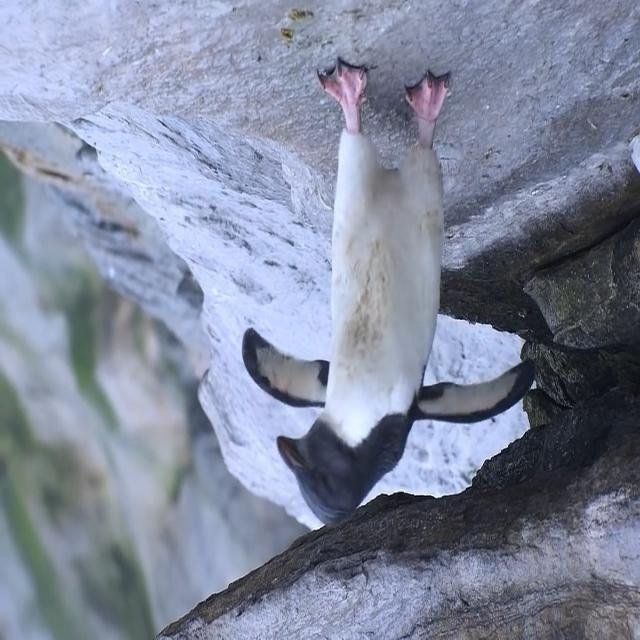penguin: (240, 58, 536, 526)
